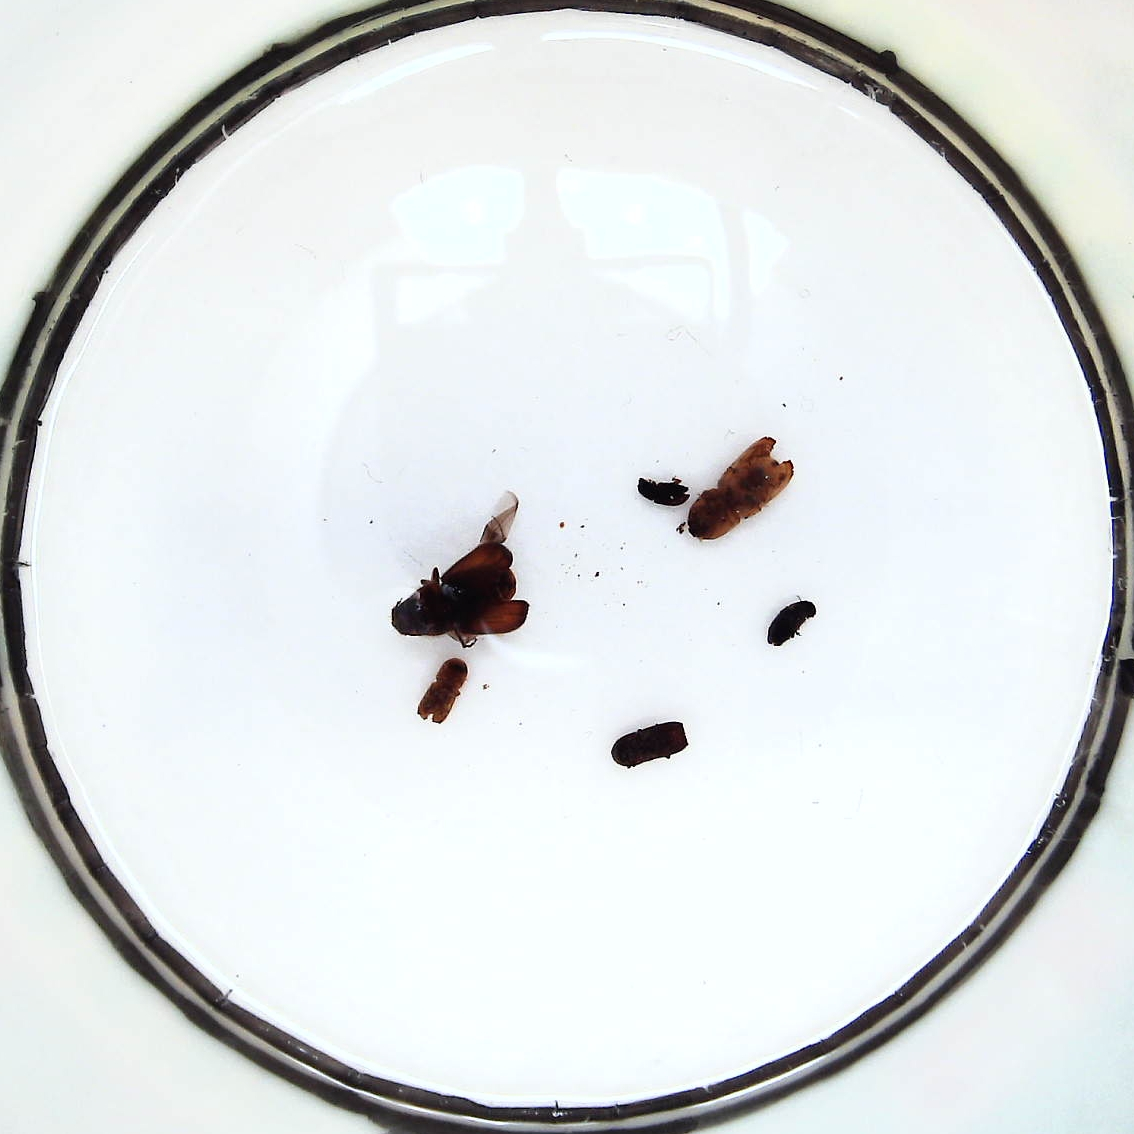Boerner: (688, 438, 793, 539)
Leconte: (392, 543, 529, 636)
acuminatus: (766, 600, 816, 647)
armandi: (419, 658, 466, 723)
coleoptera: (637, 476, 691, 507)
linnaeus: (611, 721, 688, 768)
